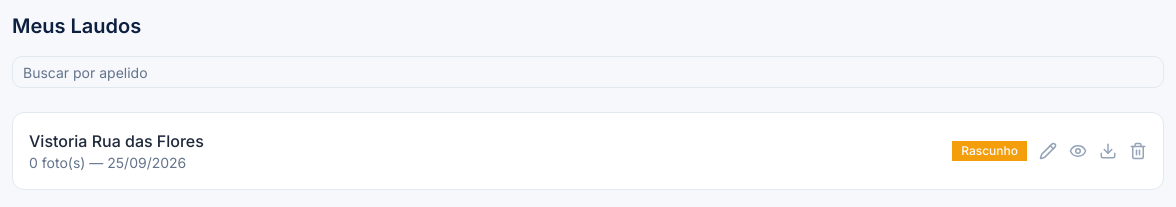
Test case: LaudoList › shows a not-found message when the search matches nothing
The width and height of the screenshot is (1176, 207).
Type "zzz" into the field named "buscar laudos" at coordinates (588, 72), box [12,56,1164,88]
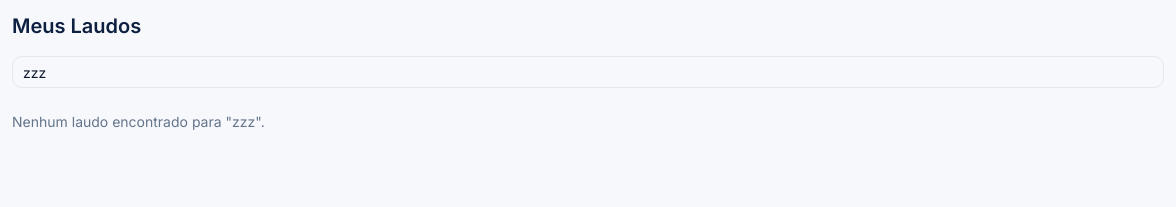
Result: the text "Nenhum laudo encontrado para \"zzz\"." is shown at [12,113,265,130]
